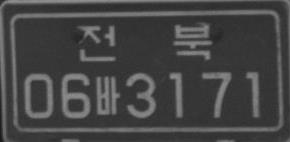0: (23, 72, 53, 119)
1: (239, 71, 268, 118), (163, 71, 192, 117)
3: (125, 72, 157, 119)
6: (59, 72, 91, 118)
7: (201, 71, 233, 119)
바: (95, 75, 121, 115)
전북_D: (75, 23, 213, 63)
